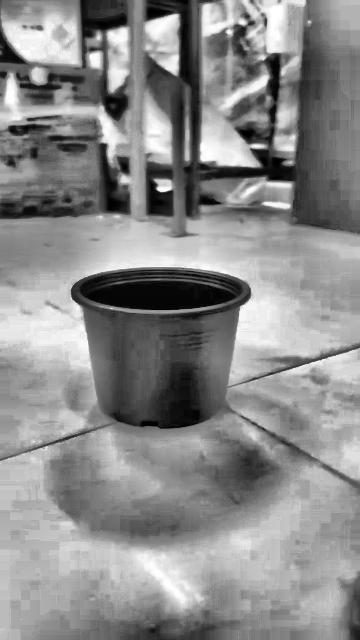pot: (71, 268, 250, 428)
